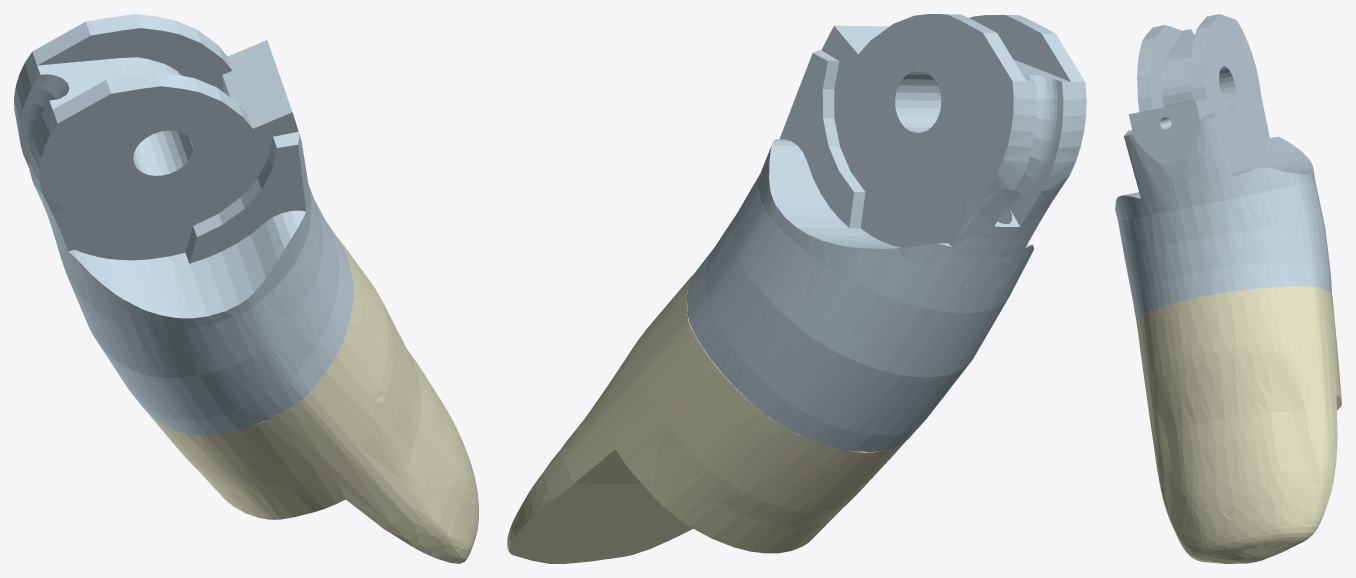
File: i02_leftHand_ThumbTip_visual.obj.balanced.glb
3 renders of one model, left to right at view 1: azimuth 30°, elevation 25°; view 2: azimuth 150°, elevation 25°; view 3: azimuth 270°, elevation 25°, orthographic. The views are drawn at different scales.
Size of the model in its own units: 0.3346 by 0.4094 by 0.1975.
